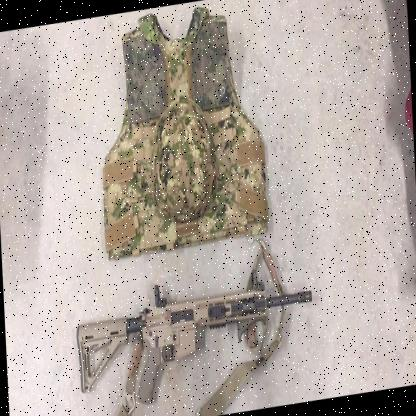rifle: (68, 270, 318, 406)
